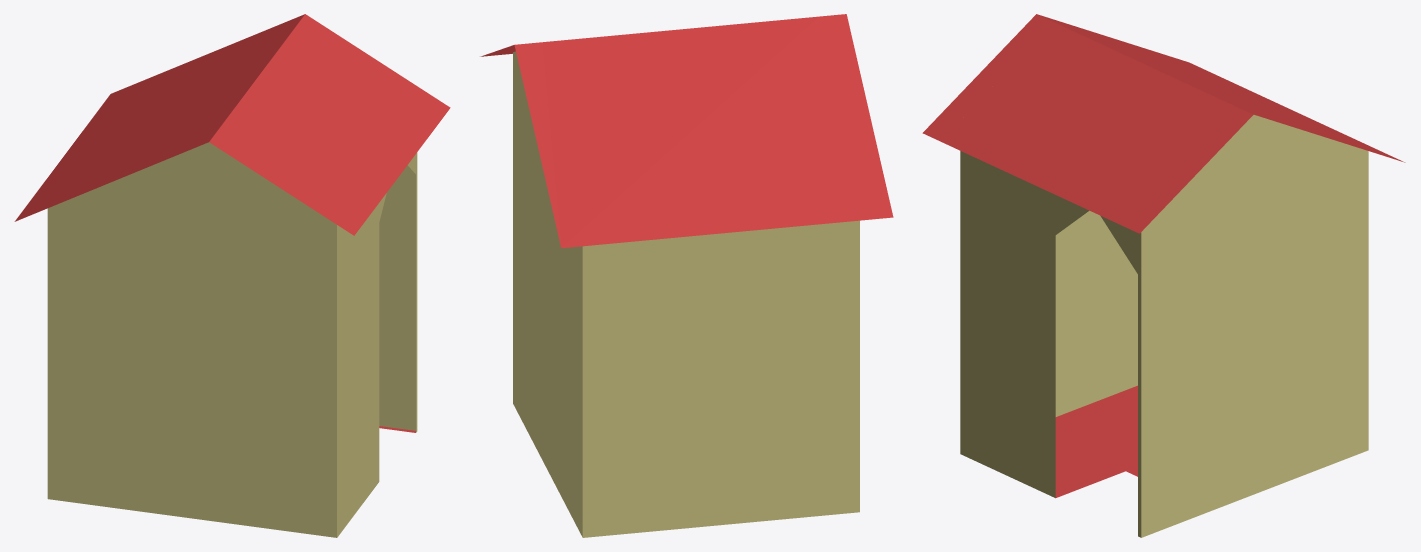
3 views of the same model, side by side, from view 1: azimuth 30°, elevation 25°; view 2: azimuth 150°, elevation 25°; view 3: azimuth 270°, elevation 25° (orthographic). The views are drawn at different scales.
Bounding box in the file's own units: 13.49 × 13.56 × 12.21.
